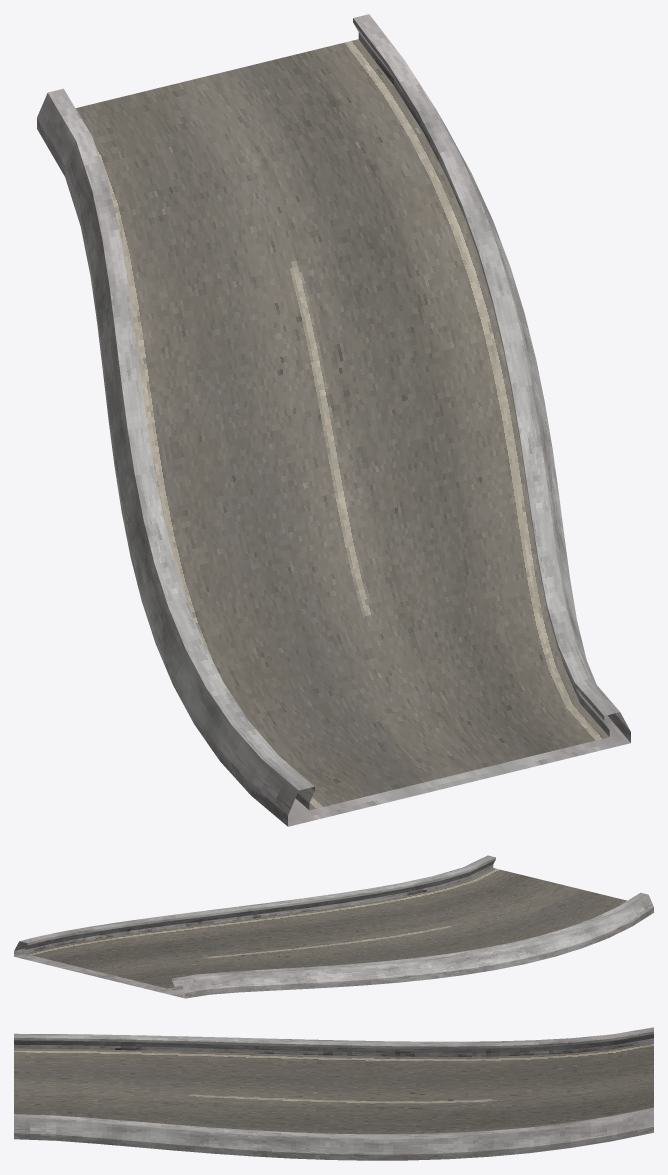
The model's file is chicane-right1x3.glb.
3 renders of one model, top to bottom at view 1: azimuth 30°, elevation 25°; view 2: azimuth 150°, elevation 25°; view 3: azimuth 270°, elevation 25°, orthographic. The views are drawn at different scales.
Parts seen in each view (by area): view 1: road-Chicane-Flat-BiSlopeUp-Up2-Right1-Size3; view 2: road-Chicane-Flat-BiSlopeUp-Up2-Right1-Size3; view 3: road-Chicane-Flat-BiSlopeUp-Up2-Right1-Size3.
Part boxes in pixels (left/top/right/bottom): road-Chicane-Flat-BiSlopeUp-Up2-Right1-Size3: left=37, top=14, right=630, bottom=826; road-Chicane-Flat-BiSlopeUp-Up2-Right1-Size3: left=14, top=855, right=653, bottom=998; road-Chicane-Flat-BiSlopeUp-Up2-Right1-Size3: left=14, top=1027, right=653, bottom=1160.
Bounding box in the file's own units: 2 × 0.5938 × 3.
2 materials, 2 textured.
